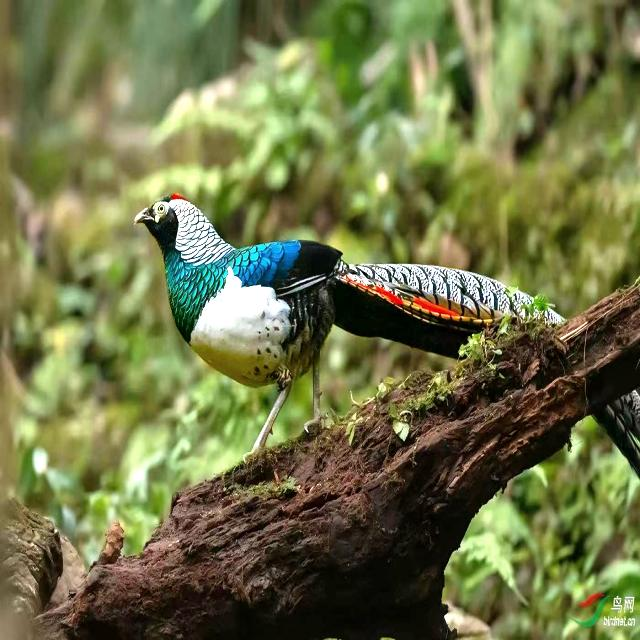Chrysolophus amherstiae: (334, 261, 563, 357)
